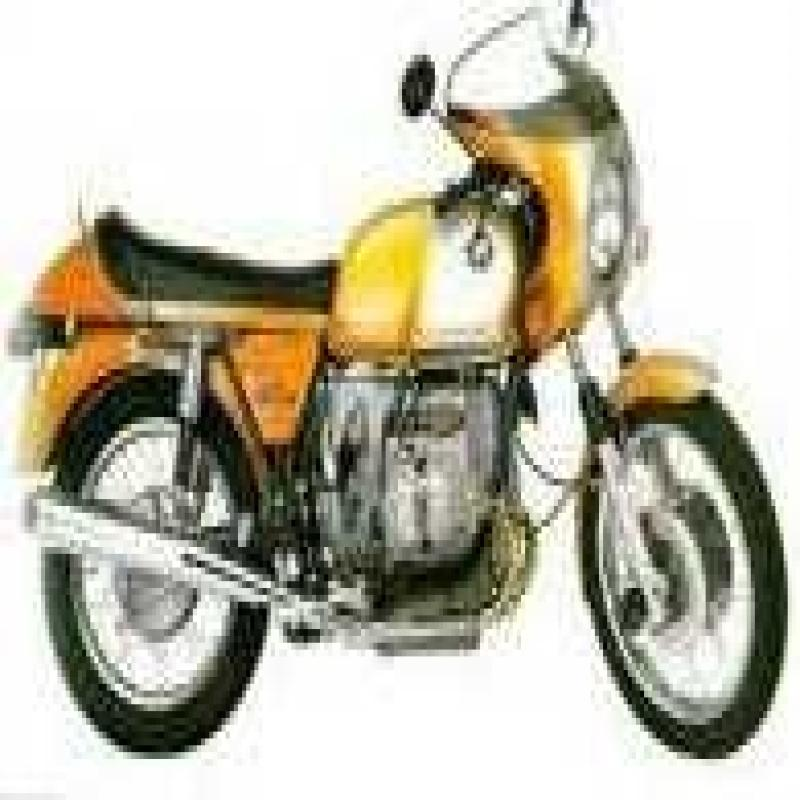bike: (1, 4, 800, 796)
